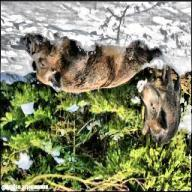boar: (20, 33, 162, 93), (138, 65, 182, 146)
